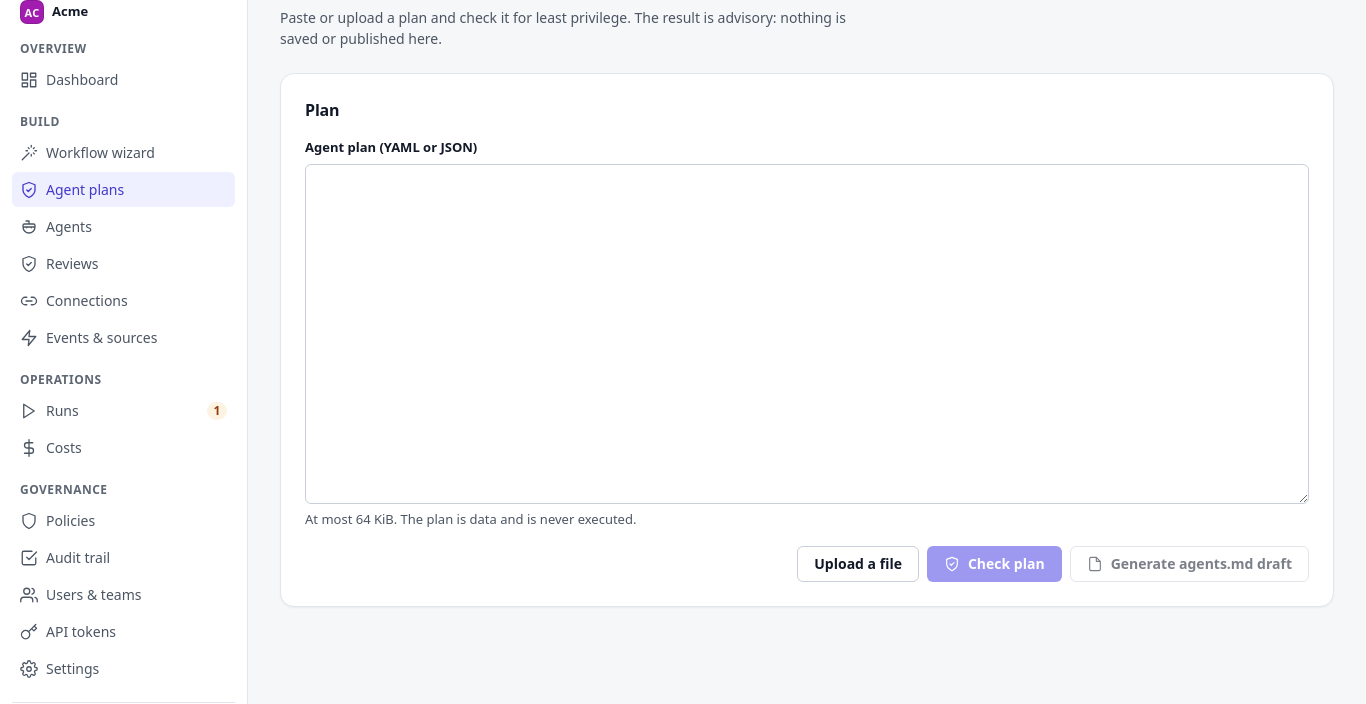
Test: plans page › generates a draft and hands it to the new agent editor (nothing is saved here)
In the text box labelled "Agent plan (YAML or JSON)": (807, 334) [305,164,1309,504], type "name: x"
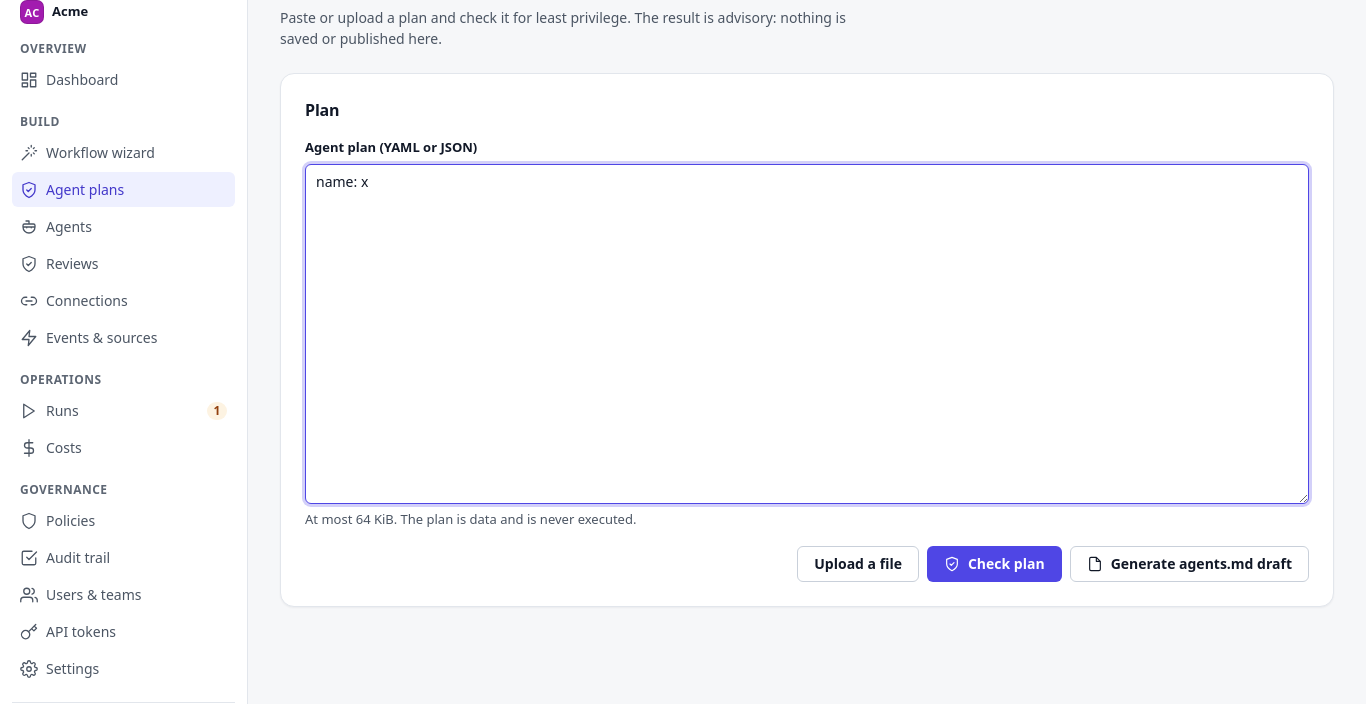
Click the button "Generate agents.md draft": (1189, 564) [1070,546,1309,582]
(page scrolled)
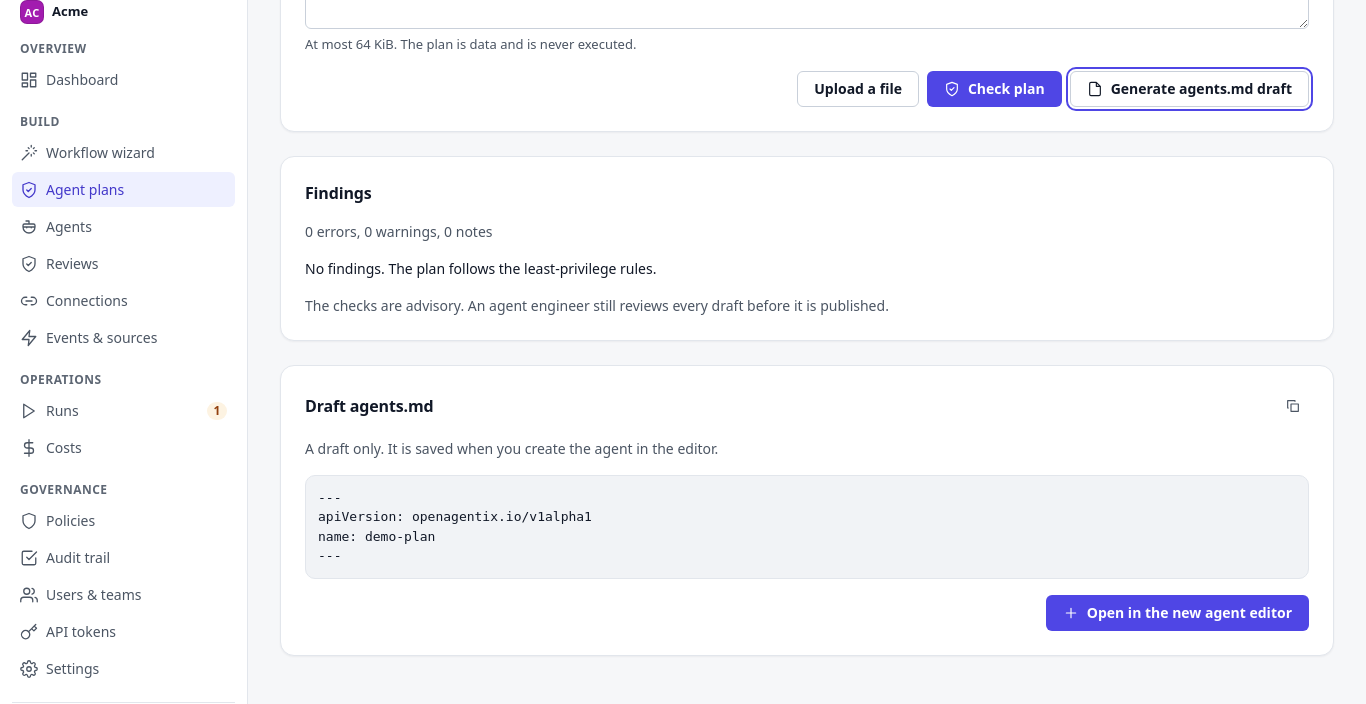
Now the text named "Generated text" shows "name: demo-plan", box [318,490,592,563]
Now the text "A draft only" is shown, box [305,439,718,458]
Click the button "Open in the new agent editor": (1177, 613) [1046,595,1309,631]
(page scrolled)
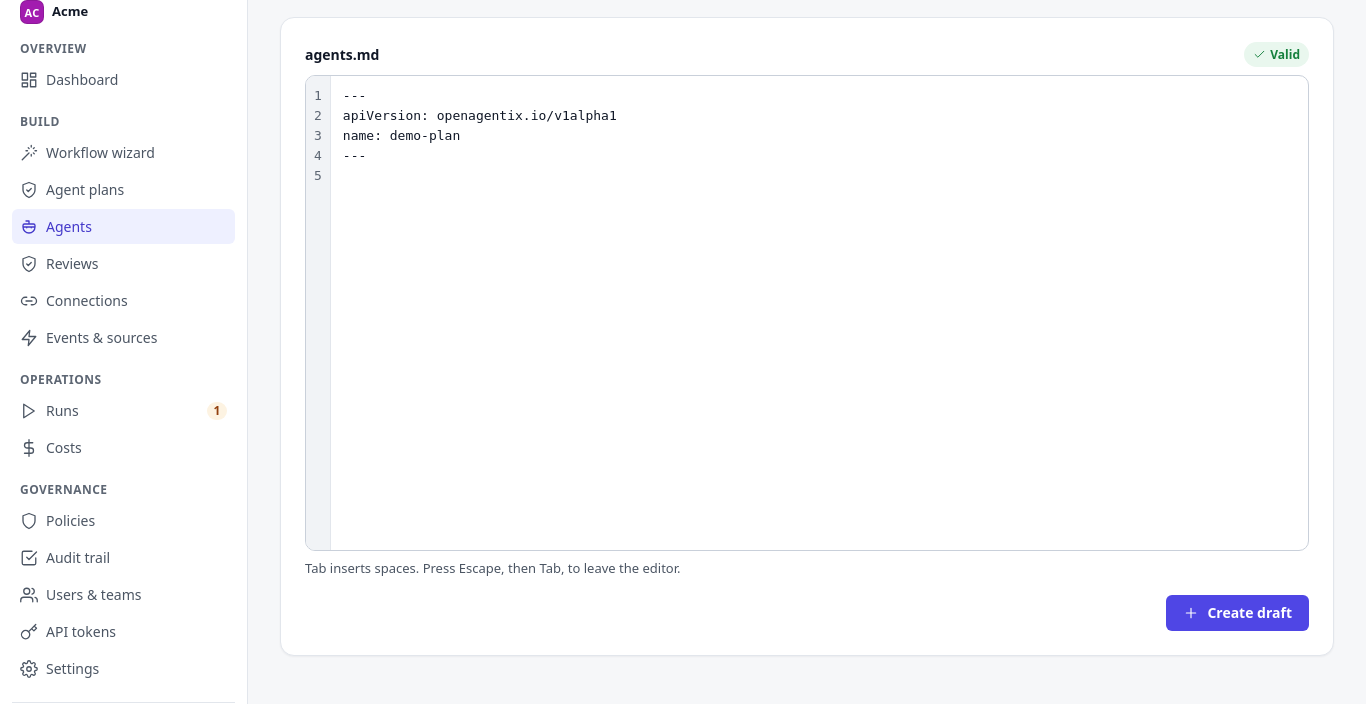
Now the text box showing "name: demo-plan" is shown, box [331,76,1308,550]
